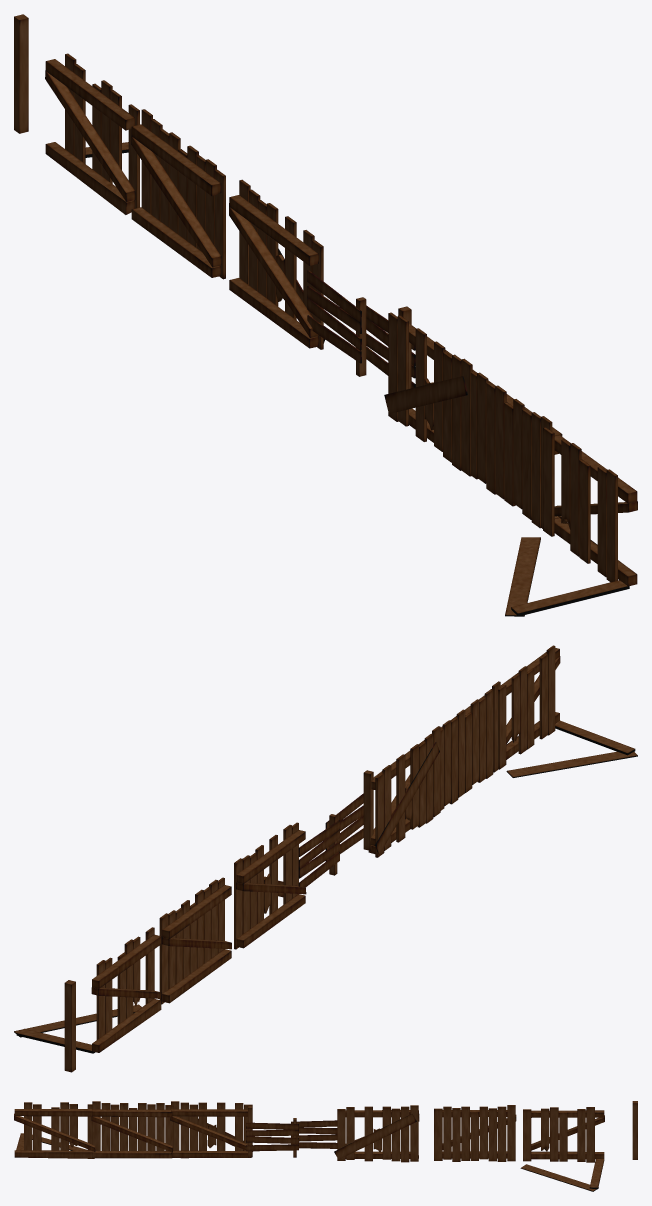
File: fencelong.obj
3 renders of one model, top to bottom at view 1: azimuth 30°, elevation 25°; view 2: azimuth 150°, elevation 25°; view 3: azimuth 270°, elevation 25°, orthographic. The views are drawn at different scales.
Visible parts, largest first — view 1: Fence_2_Post.015_Cube.015; view 2: Fence_2_Post.015_Cube.015; view 3: Fence_2_Post.015_Cube.015.
Part boxes in pixels (<box>): Fence_2_Post.015_Cube.015: <box>14,14,637,616</box>; Fence_2_Post.015_Cube.015: <box>14,645,637,1072</box>; Fence_2_Post.015_Cube.015: <box>14,1101,637,1191</box>.
Bounding box in the file's own units: 10.08 × 4.95 × 45.37.
Materials: 1 (1 with a texture image).
